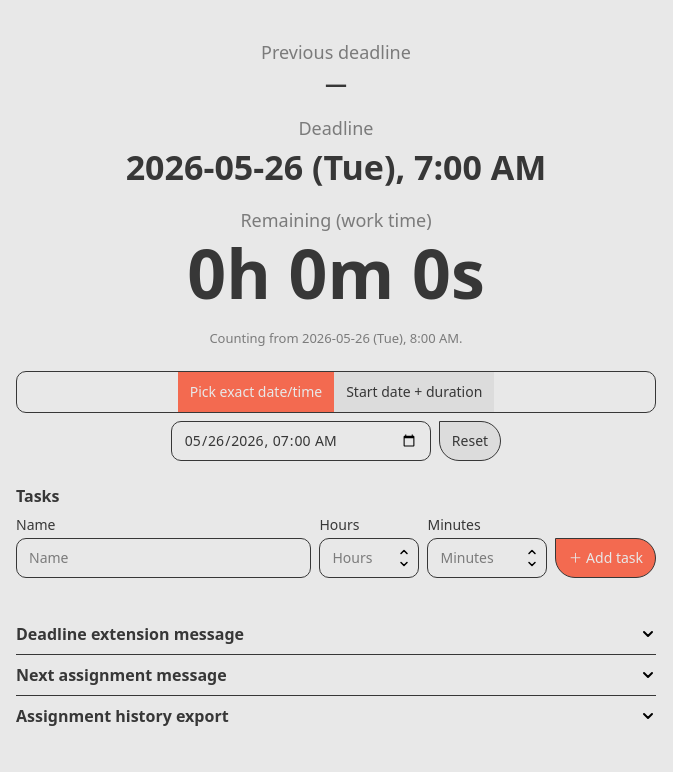
Test: App deadline behavior › toggles original and adjusted values in place for planning fields
Replace the text in the field named "Deadline time" with "2026-04-10T12:00" at (301, 441), box [171, 421, 431, 461]
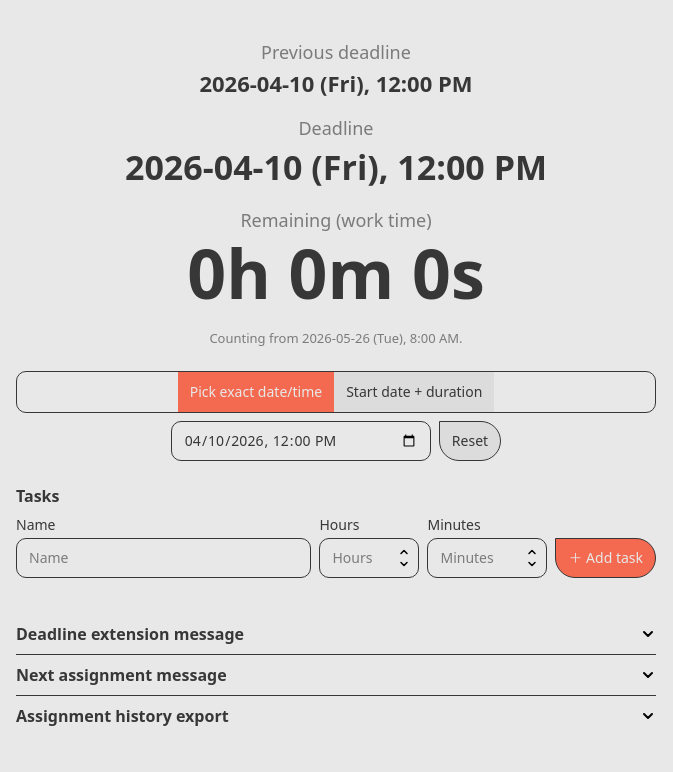
Type "English news + recording" into the field labelled "Name" at (164, 558), box [16, 538, 312, 578]
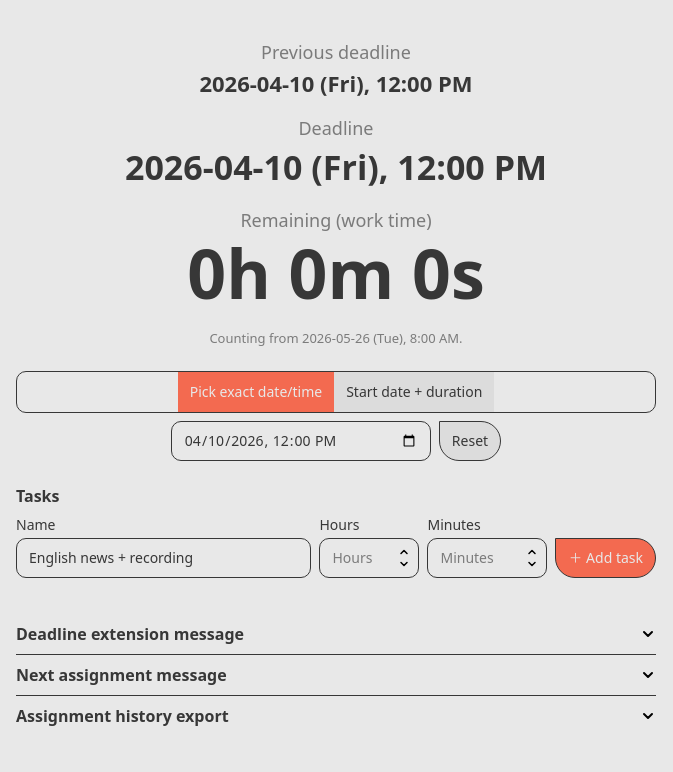
Type "2" into the number field labelled "Hours" at (370, 558), box [320, 538, 420, 578]
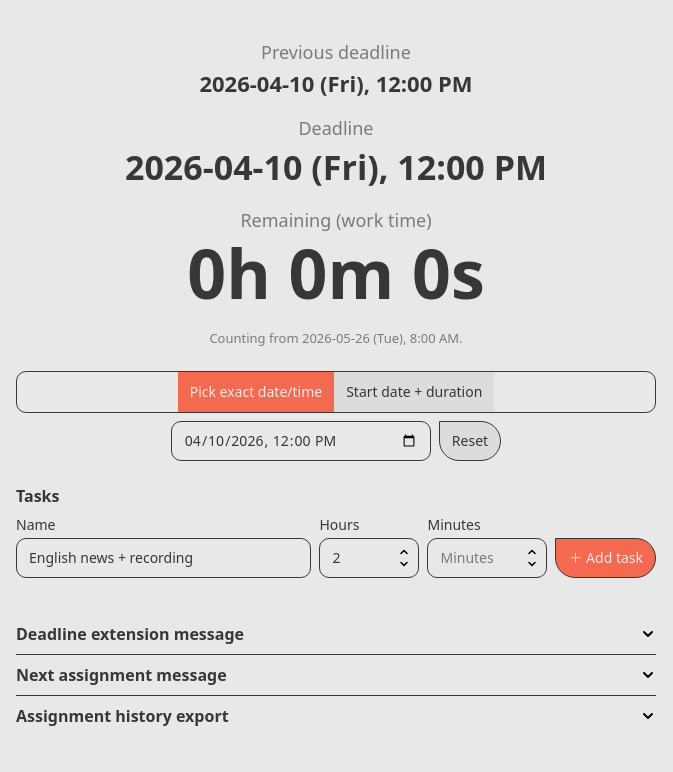
Type "0" into the number field labelled "Minutes" at (488, 558), box [428, 538, 548, 578]
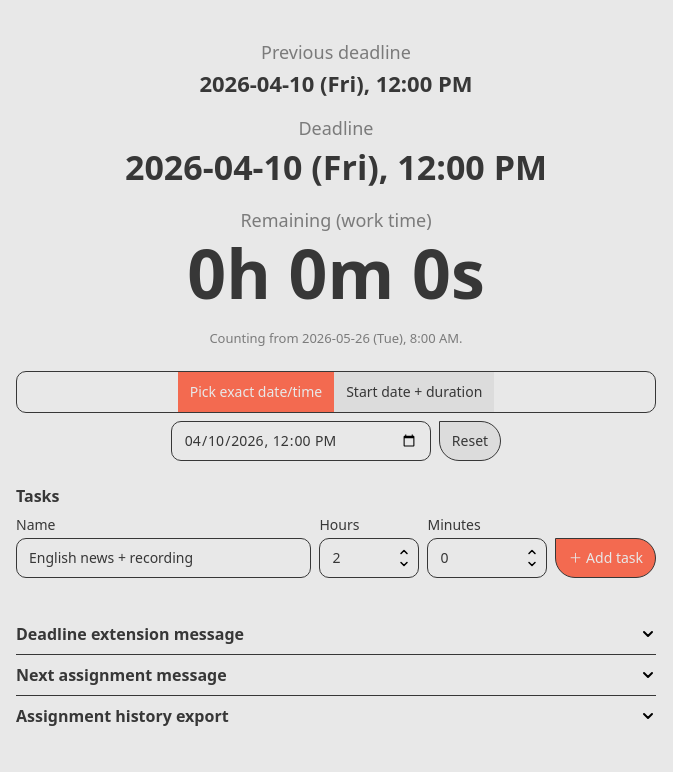
Click the button "Add task" at (606, 558), box [556, 538, 656, 578]
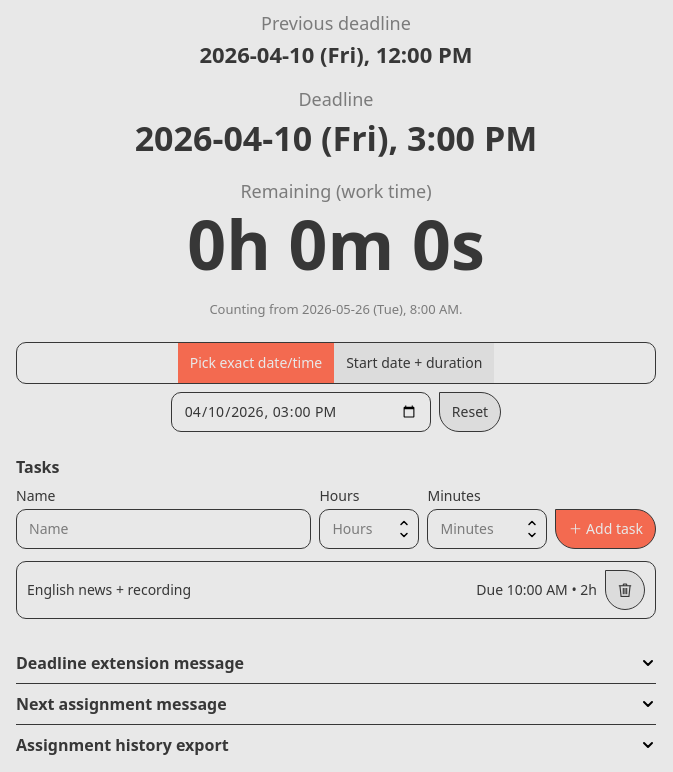
expect the field labelled "Previous deadline display" does not show "(-20%)": met
expect the text named "Task due time display" shows "2h": met, box [476, 580, 597, 599]
Click the button with aria-label "Toggle original and adjusted schedule" at (336, 138), box [135, 115, 537, 161]
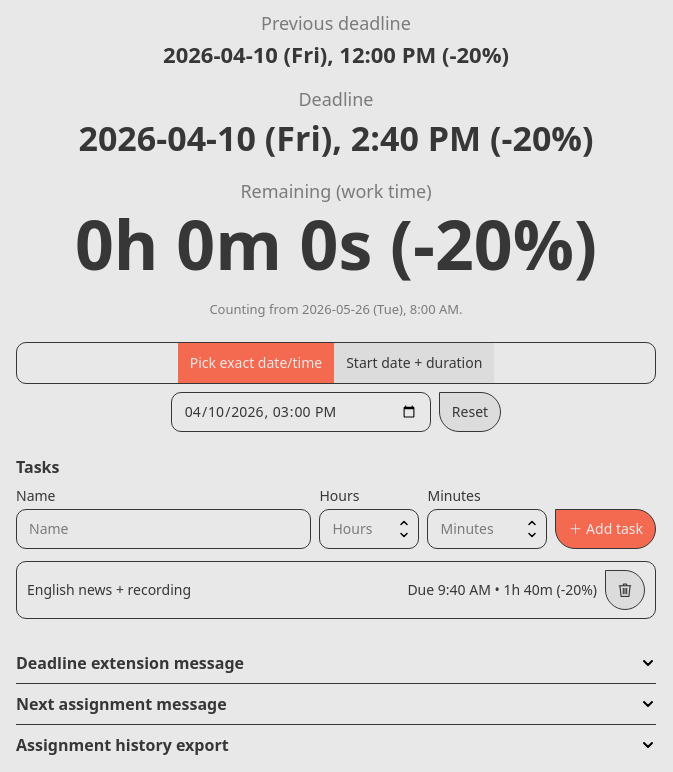
expect the text named "Previous deadline display" shows "(-20%)": met, box [436, 39, 509, 69]
expect the text named "Current deadline display" shows "(-20%)": met, box [481, 115, 594, 161]
expect the text named "Remaining work time display" shows "(-20%)": met, box [372, 197, 597, 290]
